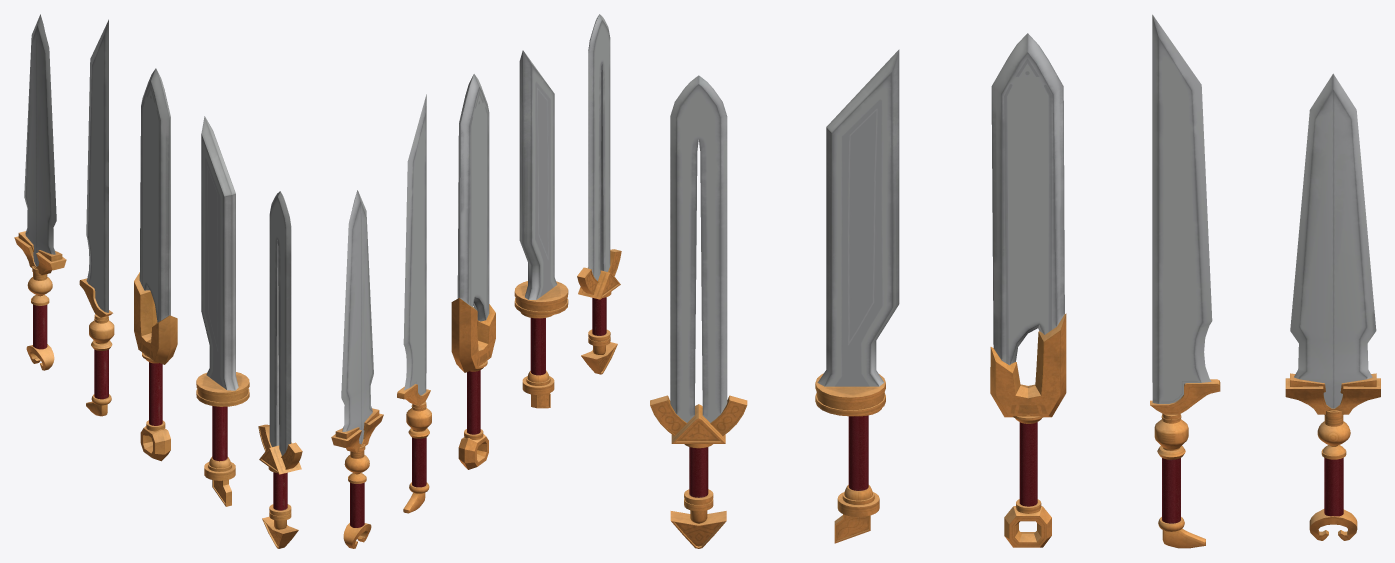
The model's file is Pack.fbx.
3 views of the same model, side by side, from view 1: azimuth 30°, elevation 25°; view 2: azimuth 150°, elevation 25°; view 3: azimuth 270°, elevation 25° (orthographic). The views are drawn at different scales.
Parts seen in each view (by area): view 1: Sword02, Sword03, Sword05, Sword01, Sword04; view 2: Sword03, Sword02, Sword05, Sword01, Sword04; view 3: Sword03, Sword02, Sword05, Sword04, Sword01.
Part boxes in pixels (x1,y1,x2,y2): Sword02: (196,116,249,506); Sword03: (134,68,177,461); Sword05: (14,14,66,370); Sword01: (258,191,302,548); Sword04: (79,19,114,416); Sword03: (451,74,495,469); Sword02: (514,50,568,408); Sword05: (331,190,383,548); Sword01: (577,14,621,374); Sword04: (397,94,431,513); Sword03: (990,33,1066,547); Sword02: (815,49,899,543); Sword05: (1285,73,1380,540); Sword04: (1150,14,1220,548); Sword01: (650,75,747,548).
Bounding box in the file's own units: 60.15 × 501 × 622.
5 materials, 5 textured.
